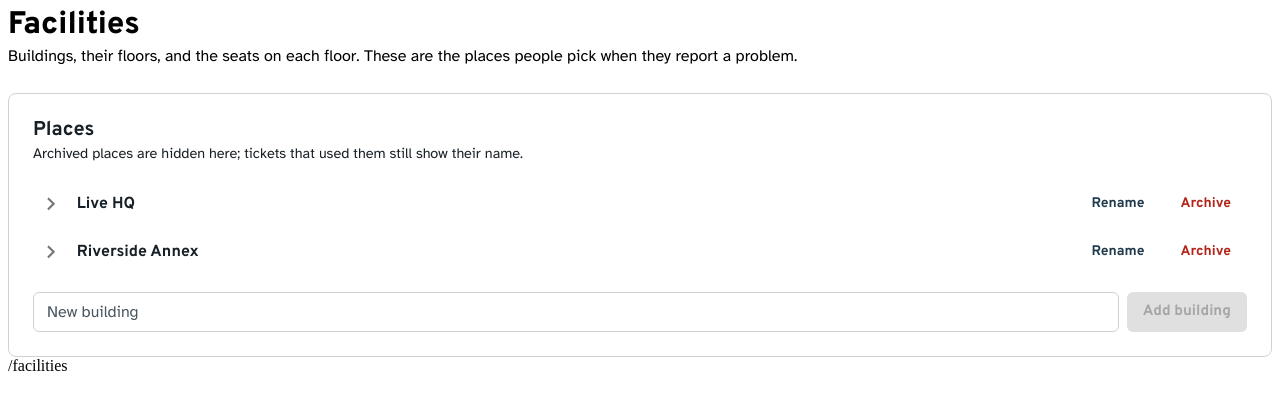
Test: FacilitiesPage › renames in place, and cancel leaves the name as it was
The width and height of the screenshot is (1280, 396).
Click the button with aria-label "Rename Riverside Annex".
click(1118, 252)  # box [1076,232,1160,272]
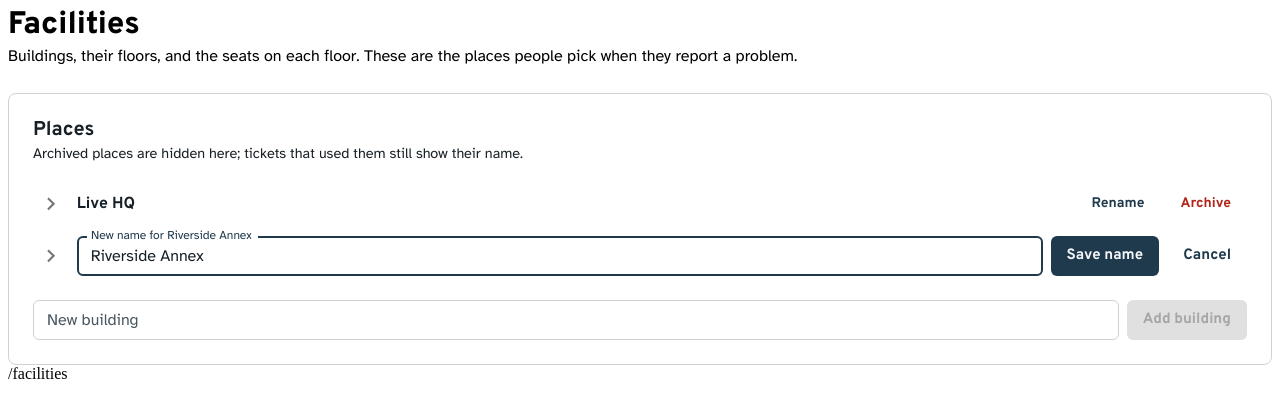
Click the button "Cancel".
click(1207, 256)  # box [1167,236,1247,276]
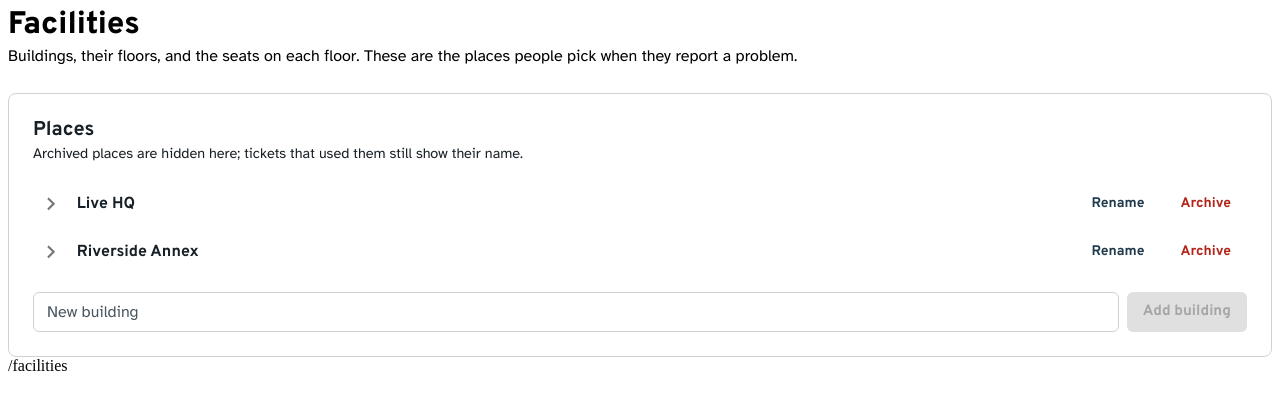
Click the button with aria-label "Rename Riverside Annex".
click(1118, 252)  # box [1076,232,1160,272]
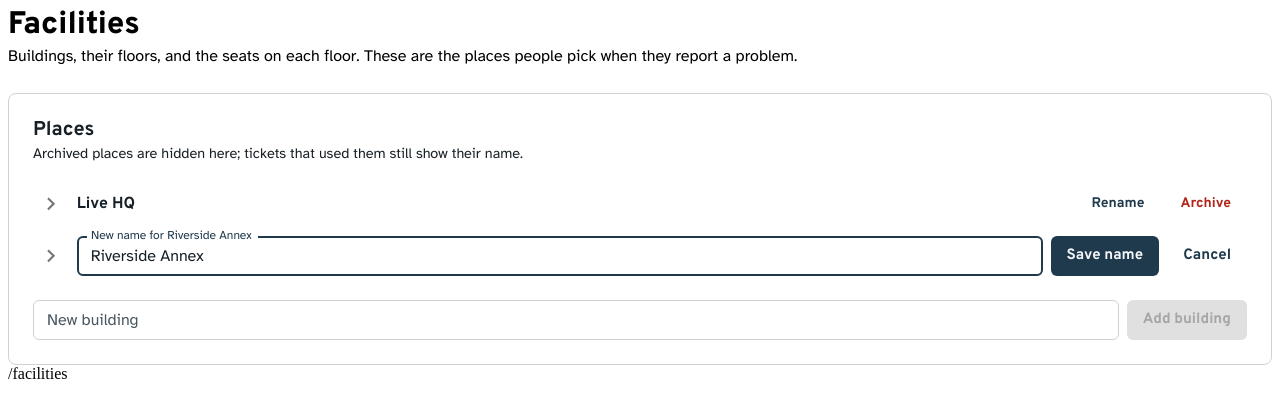
Replace the text in the field labelled "New name for Riverside Annex" with "River Annex" at (560, 256), box [77,236,1043,276]
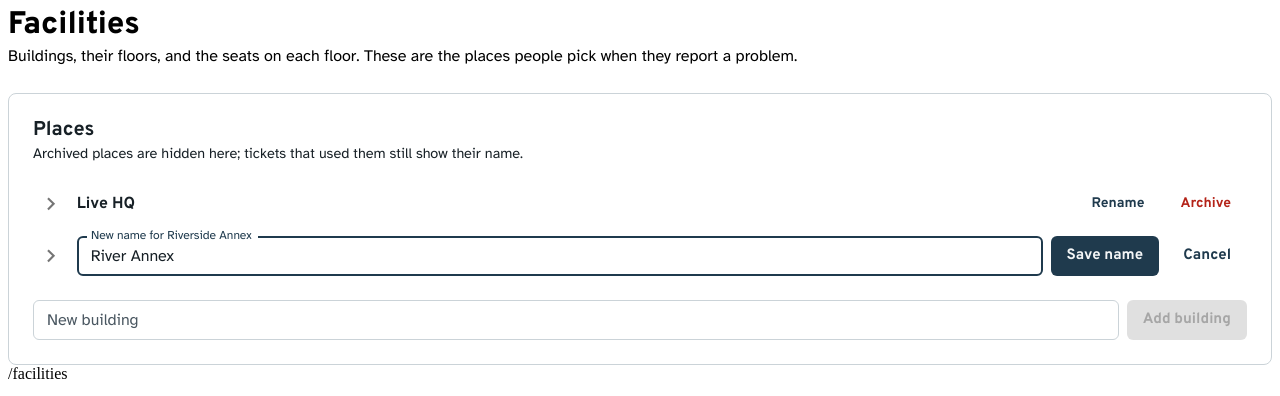
Click the button "Save name".
click(1105, 256)  # box [1051,236,1159,276]
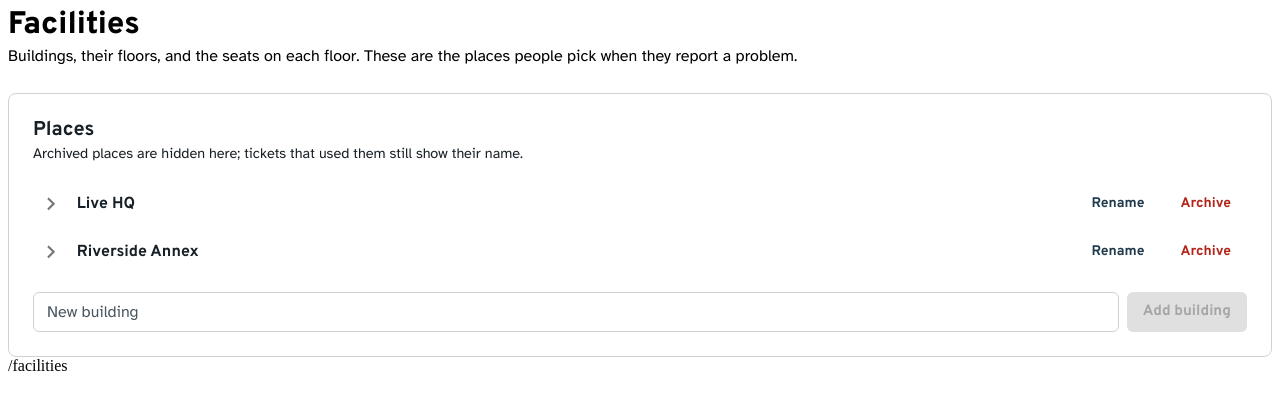
expect the label "New name for" is gone: met
